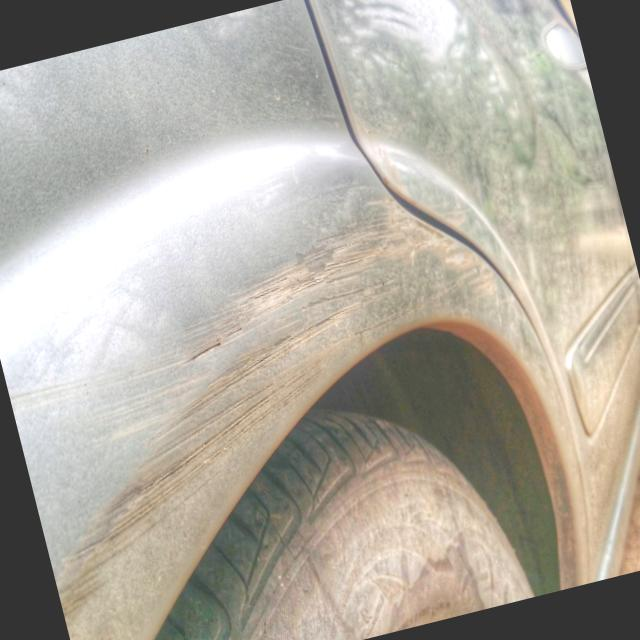Rayure: (0, 186, 580, 640)
